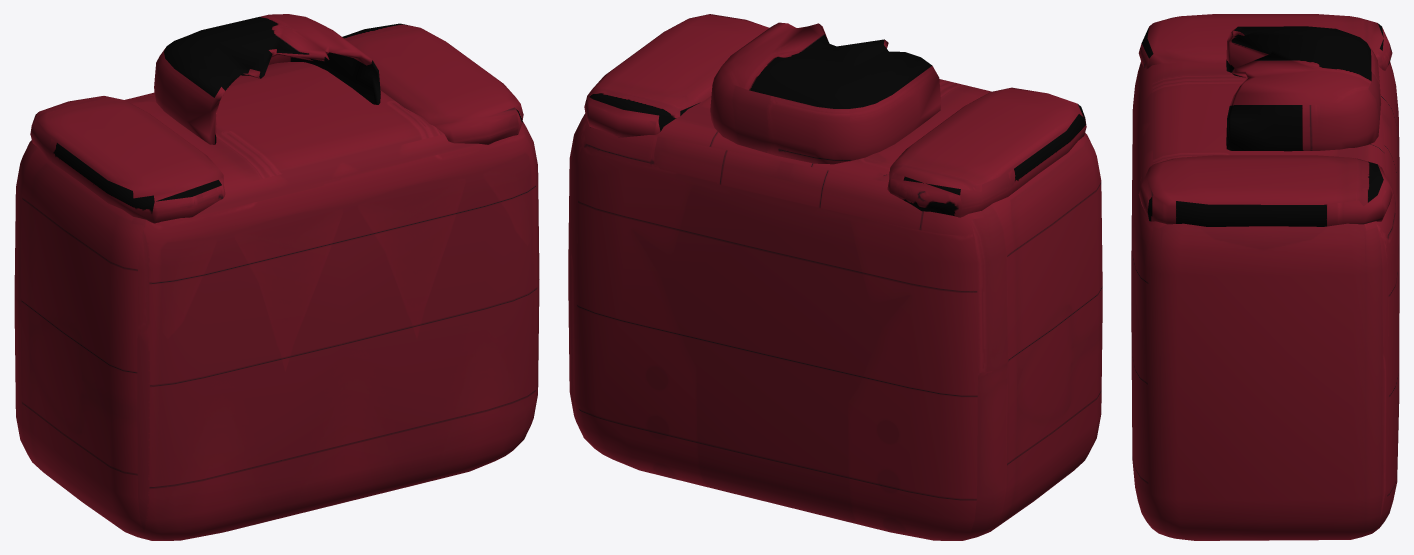
Rendered from Mascarada_Saco.fbx.
3 renders of one model, left to right at view 1: azimuth 30°, elevation 25°; view 2: azimuth 150°, elevation 25°; view 3: azimuth 270°, elevation 25°, orthographic. The views are drawn at different scales.
Parts seen in each view (by area): view 1: Mascarada_Saco; view 2: Mascarada_Saco; view 3: Mascarada_Saco.
Boxes of the visible parts, x1=… form: Mascarada_Saco: x1=14, y1=14, x2=539, y2=540; Mascarada_Saco: x1=568, y1=14, x2=1102, y2=540; Mascarada_Saco: x1=1131, y1=14, x2=1399, y2=540.
Bounding box in the file's own units: 2.19 × 2.06 × 1.22.
